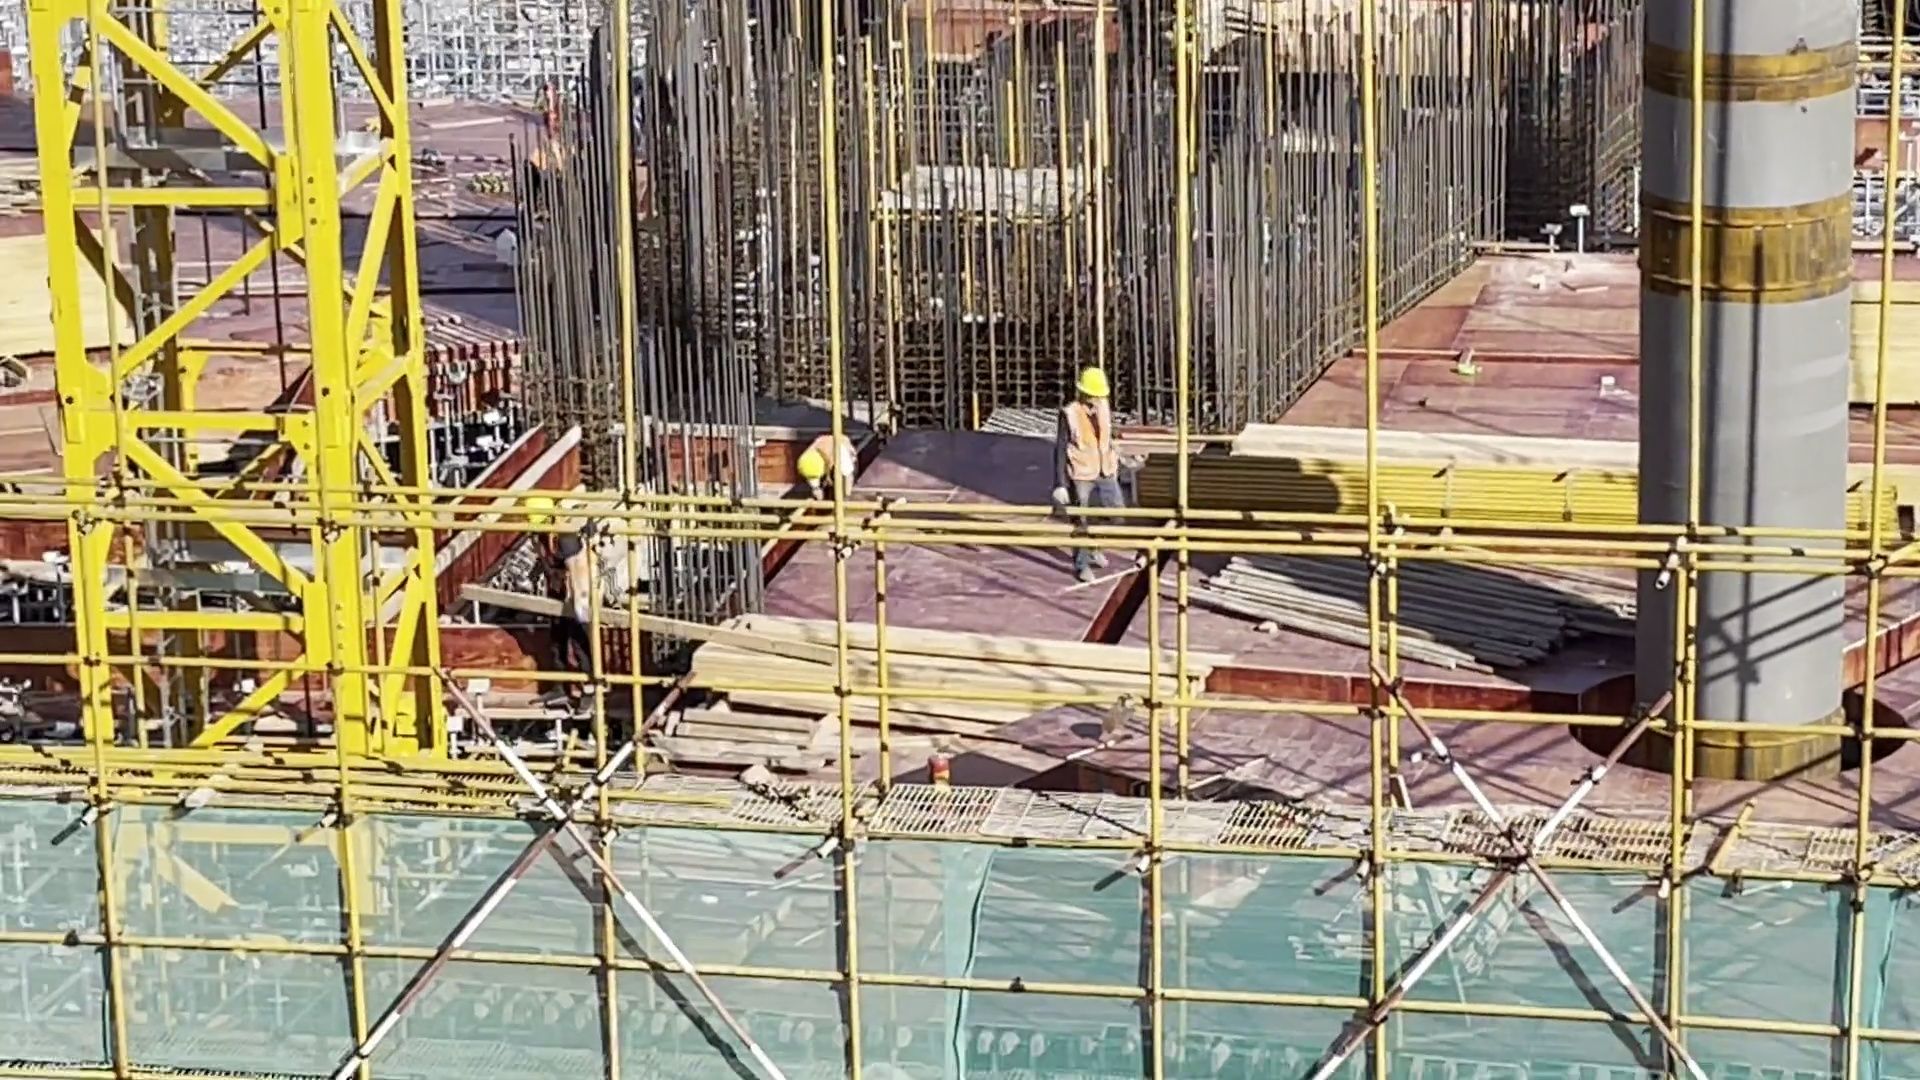board: (700, 604, 1226, 787)
helmet: (784, 448, 825, 495), (1077, 365, 1105, 399)
person: (1055, 366, 1124, 583), (791, 433, 860, 495)
vest: (1062, 409, 1122, 509)
wood: (1203, 519, 1540, 696)
